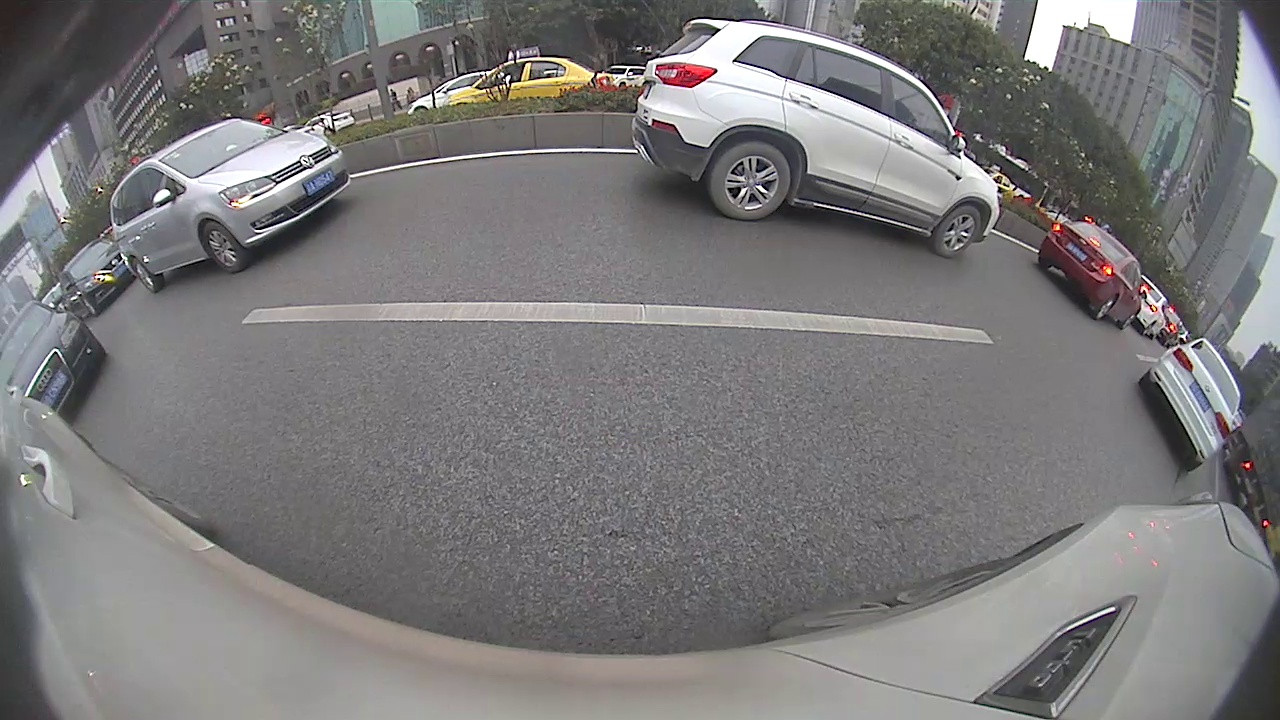car: (632, 15, 1002, 261), (109, 118, 353, 291), (1138, 337, 1243, 472), (1035, 218, 1148, 331), (0, 299, 106, 417), (446, 47, 611, 105), (59, 238, 133, 315)
front: (936, 207, 982, 257), (202, 220, 243, 274)
rear: (712, 139, 791, 224), (127, 259, 158, 293), (1093, 295, 1119, 320)
